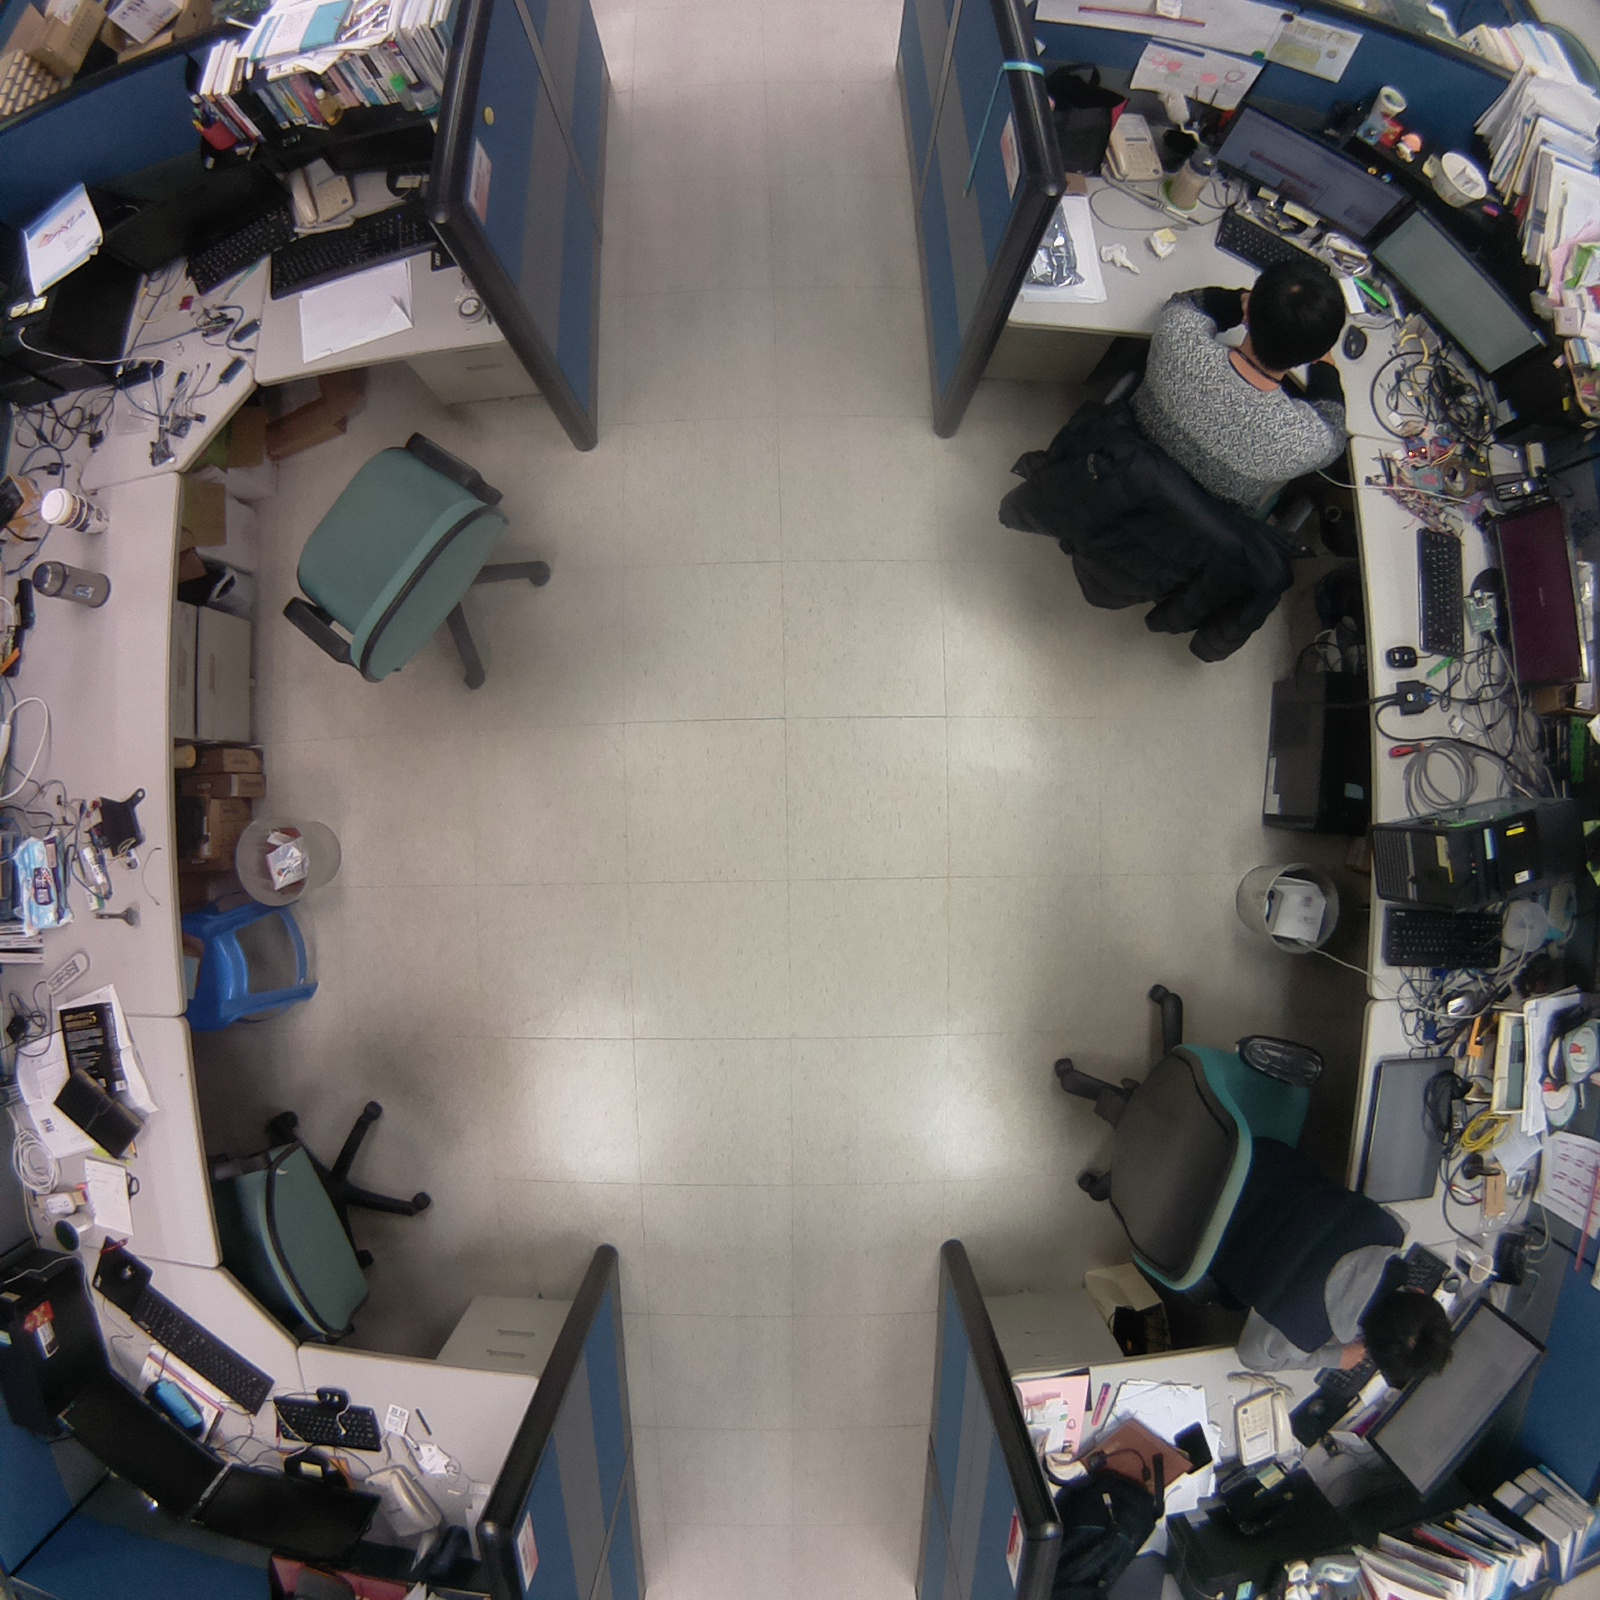chair: (247, 401, 588, 722), (191, 1055, 440, 1352)
head: (1234, 244, 1357, 380), (1355, 1270, 1468, 1404)
sitting: (1032, 968, 1473, 1403), (981, 249, 1353, 686)
